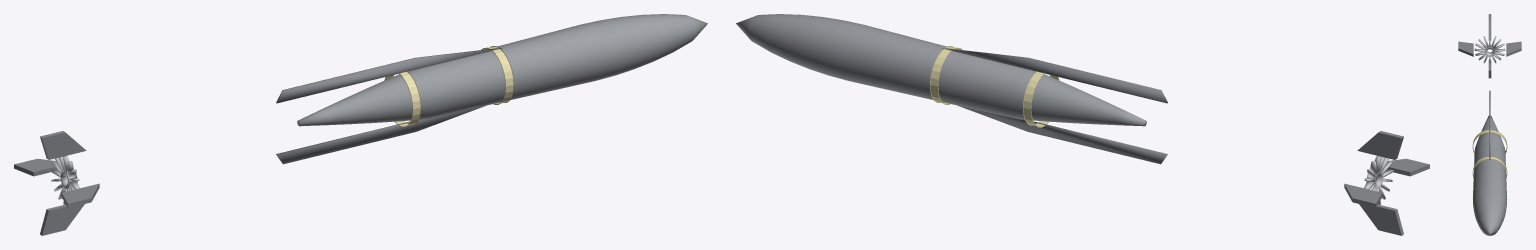
Rendered from RU_TORP_5365K_LOD1.fbx.
The picture shows the model from 3 angles, left to right: view 1: azimuth 30°, elevation 25°; view 2: azimuth 150°, elevation 25°; view 3: azimuth 270°, elevation 25°; orthographic projection. The views are drawn at different scales.
Visible parts, largest first — view 1: WPN_RU_TORP_5365K_LOD1_Body, WPN_RU_TORP_5365K_LOD1_Detail, WPN_RU_TORP_5365K_LOD1_Fins, WPN_RU_TORP_5365K_LOD1_Marking, WPN_RU_TORP_5365K_LOD1_Propulsor; view 2: WPN_RU_TORP_5365K_LOD1_Body, WPN_RU_TORP_5365K_LOD1_Detail, WPN_RU_TORP_5365K_LOD1_Fins, WPN_RU_TORP_5365K_LOD1_Marking, WPN_RU_TORP_5365K_LOD1_Propulsor; view 3: WPN_RU_TORP_5365K_LOD1_Body, WPN_RU_TORP_5365K_LOD1_Fins, WPN_RU_TORP_5365K_LOD1_Propulsor, WPN_RU_TORP_5365K_LOD1_Marking, WPN_RU_TORP_5365K_LOD1_Detail.
Part boxes in pixels (x1,y1,x2,y2): WPN_RU_TORP_5365K_LOD1_Body: (297,14,707,126); WPN_RU_TORP_5365K_LOD1_Detail: (276,48,501,164); WPN_RU_TORP_5365K_LOD1_Fins: (14,131,99,235); WPN_RU_TORP_5365K_LOD1_Marking: (384,46,513,127); WPN_RU_TORP_5365K_LOD1_Propulsor: (50,155,79,204); WPN_RU_TORP_5365K_LOD1_Body: (736,14,1146,126); WPN_RU_TORP_5365K_LOD1_Detail: (942,48,1167,164); WPN_RU_TORP_5365K_LOD1_Fins: (1344,131,1429,235); WPN_RU_TORP_5365K_LOD1_Marking: (930,46,1059,127); WPN_RU_TORP_5365K_LOD1_Propulsor: (1364,155,1393,204); WPN_RU_TORP_5365K_LOD1_Body: (1472,115,1507,235); WPN_RU_TORP_5365K_LOD1_Fins: (1458,14,1521,78); WPN_RU_TORP_5365K_LOD1_Propulsor: (1474,36,1505,64); WPN_RU_TORP_5365K_LOD1_Marking: (1472,130,1507,178); WPN_RU_TORP_5365K_LOD1_Detail: (1489,90,1490,159).
Size of the model in its own units: 7.03 by 0.9849 by 0.9849.
